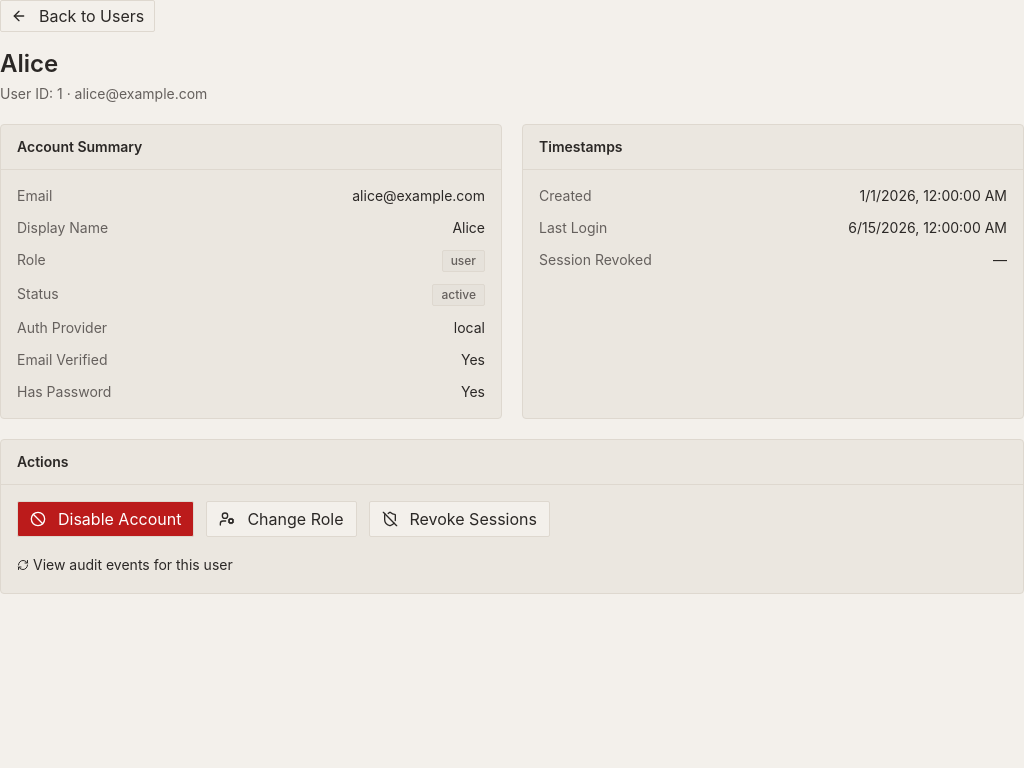
Test: Admin User Detail Page › resets dialog state on cancel
This screenshot has width=1024, height=768.
Click the button "Disable Account" at (106, 519), box [17,501,194,537]
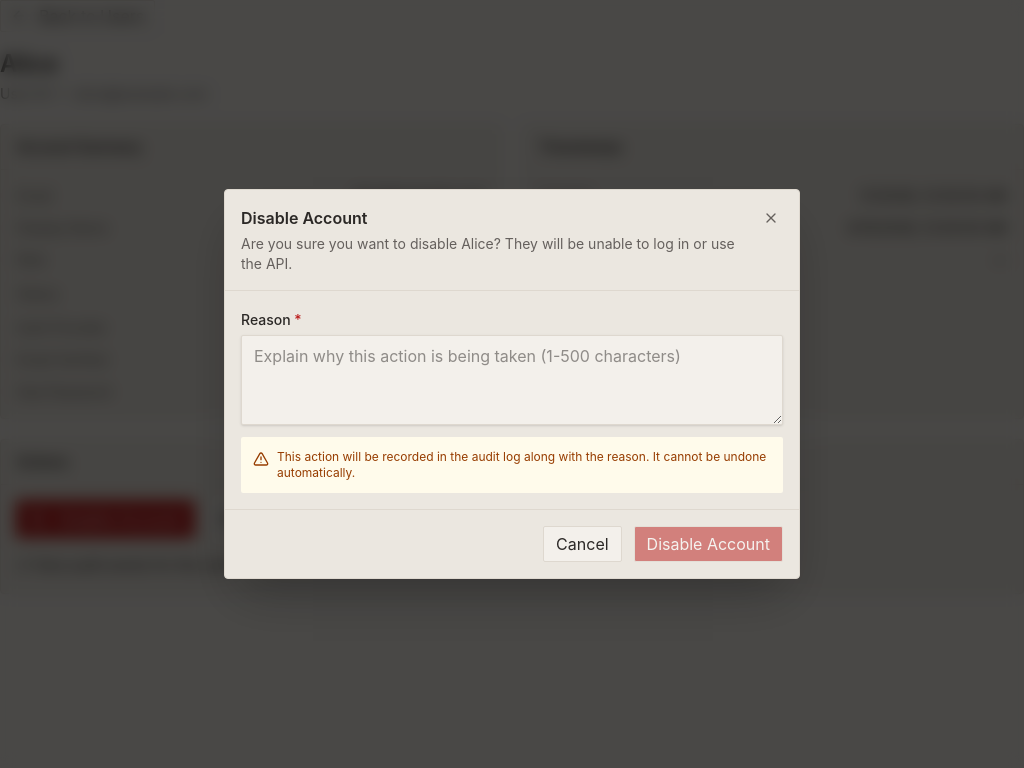
Expected: the dialog is shown, [224,189,800,579]
Click the button "Cancel" at (582, 544), box [543,526,622,562]
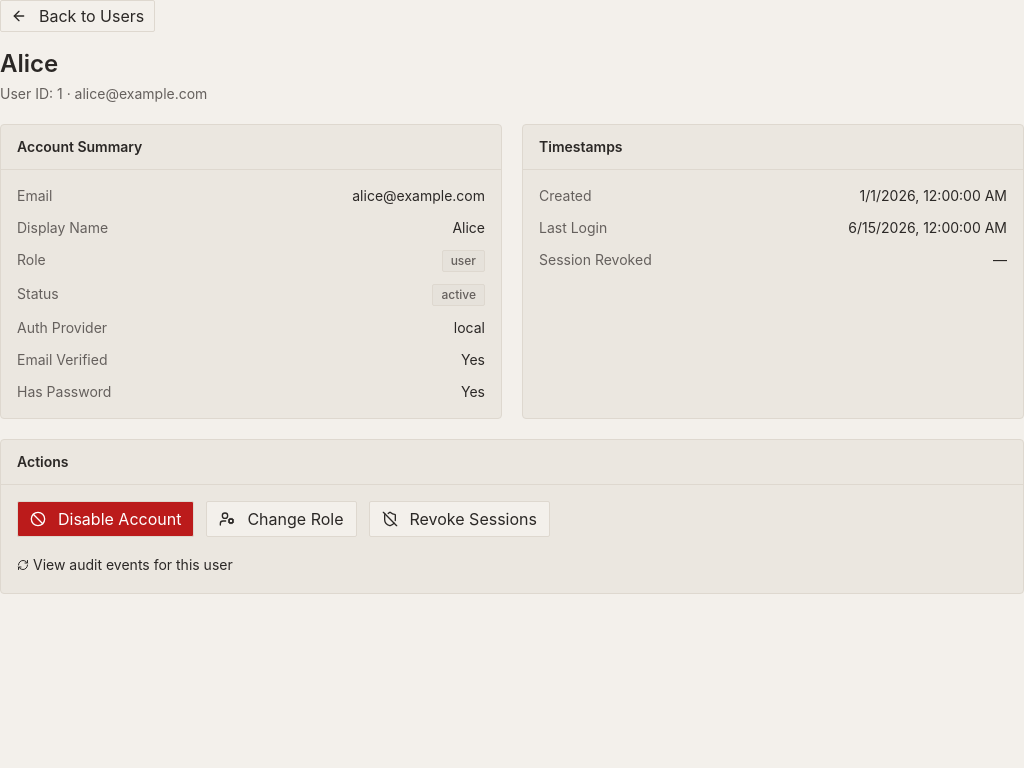
Expected: the dialog is gone
